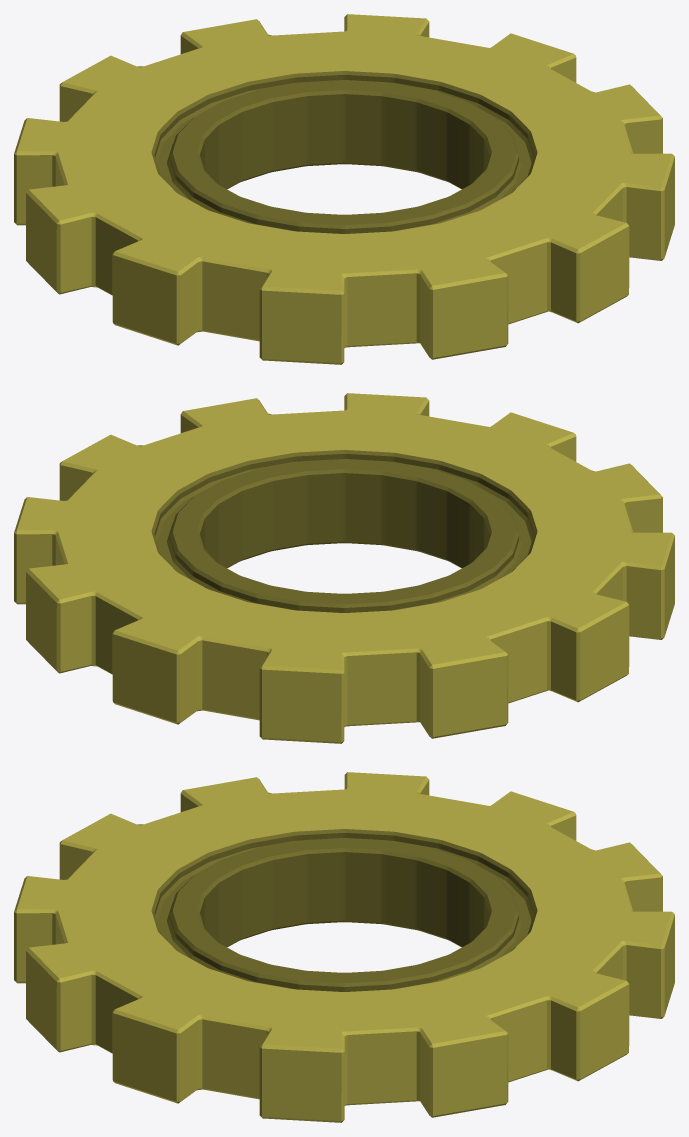
The model's file is Ecrou.fbx.
3 views of the same model, one above another, from view 1: azimuth 30°, elevation 25°; view 2: azimuth 150°, elevation 25°; view 3: azimuth 270°, elevation 25° (orthographic).
Parts seen in each view (by area): view 1: Ecrou; view 2: Ecrou; view 3: Ecrou.
Boxes of the visible parts, left/top/right/bottom form: Ecrou: left=14, top=14, right=674, bottom=364; Ecrou: left=14, top=393, right=674, bottom=743; Ecrou: left=14, top=772, right=674, bottom=1122.
Size of the model in its own units: 2.28 by 0.2818 by 2.28.
